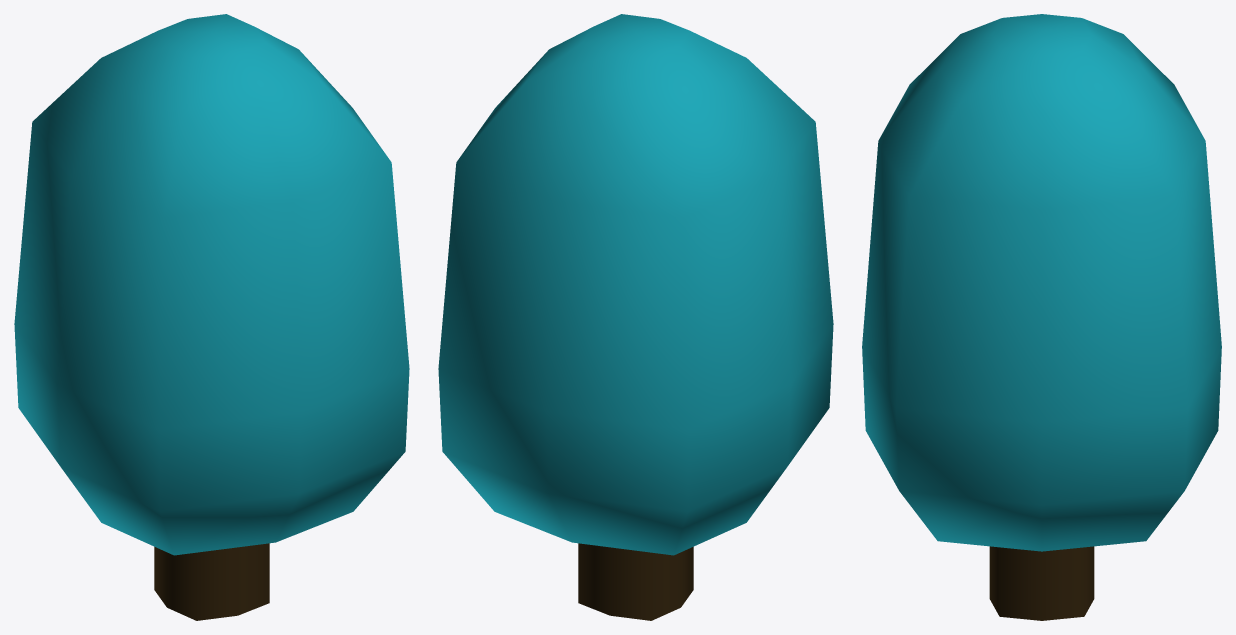
File: winter-tree-dtall.glb
3 views of the same model, side by side, from view 1: azimuth 30°, elevation 25°; view 2: azimuth 150°, elevation 25°; view 3: azimuth 270°, elevation 25° (orthographic).
Visible parts, largest first — view 1: WinterTreeDTall; view 2: WinterTreeDTall; view 3: WinterTreeDTall.
Boxes of the visible parts, x1,y1,x2,y2 form: WinterTreeDTall: (14,14,409,620); WinterTreeDTall: (438,14,833,620); WinterTreeDTall: (862,14,1221,620).
Bounding box in the file's own units: 169 × 295 × 169.
Materials: 1 (1 with a texture image).
